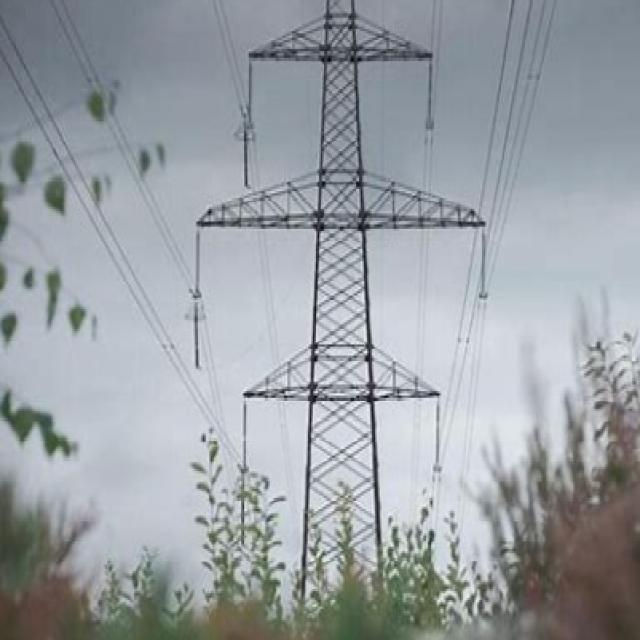utility poles: (199, 352, 473, 634)
